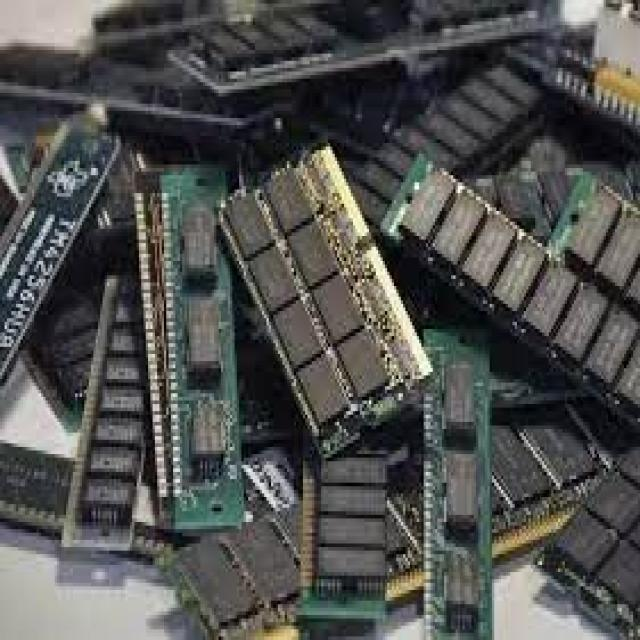Ram: (42, 76, 604, 573)
